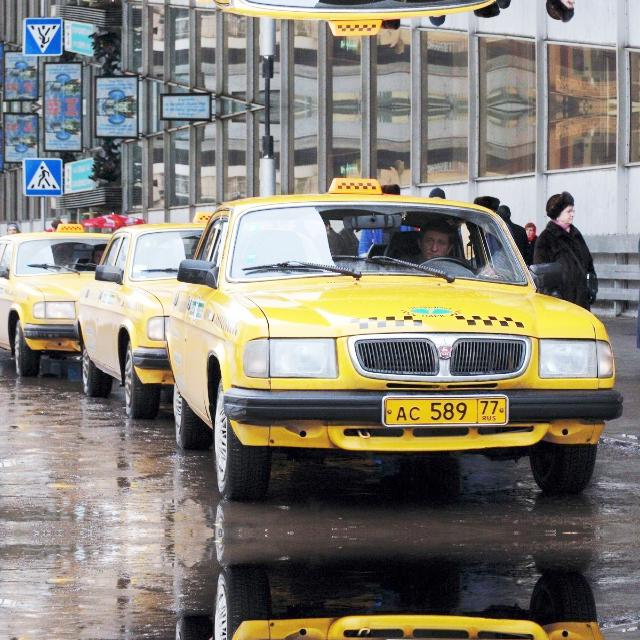taxi: (378, 392, 514, 431)
